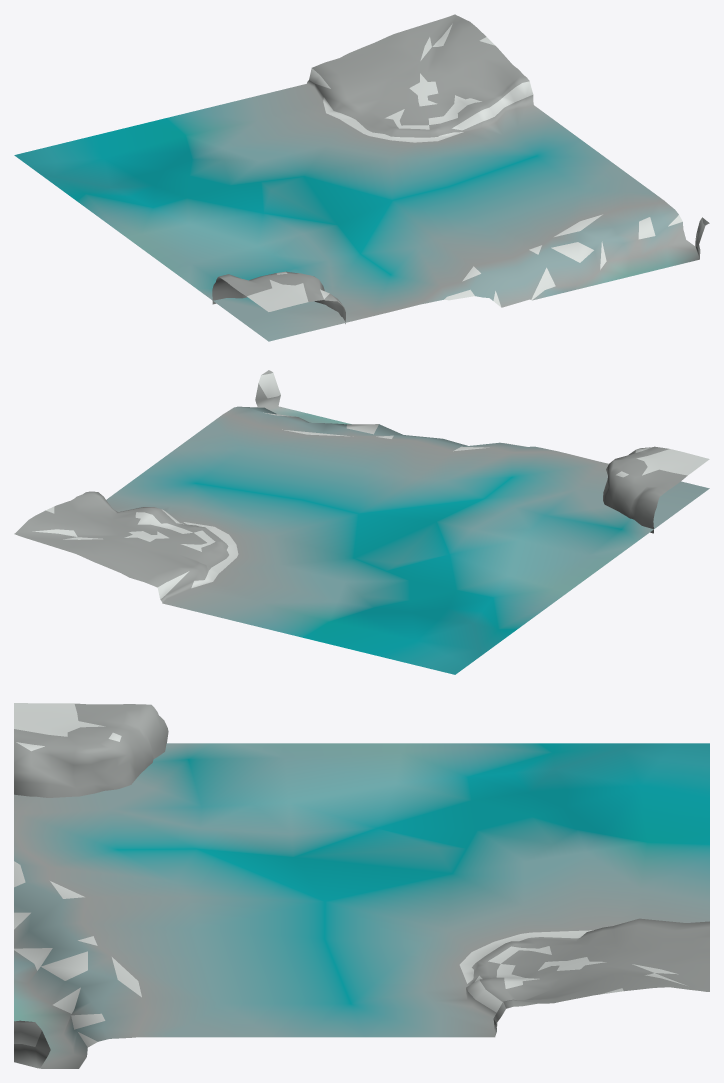
3 views of the same model, one above another, from view 1: azimuth 30°, elevation 25°; view 2: azimuth 150°, elevation 25°; view 3: azimuth 270°, elevation 25° (orthographic). The views are drawn at different scales.
Parts seen in each view (by area): view 1: G:\FFXIV-MapTools\exports\n5f1\bg\ex4\01_nvt_n5\fld\n5f1\bgp (×10); view 2: G:\FFXIV-MapTools\exports\n5f1\bg\ex4\01_nvt_n5\fld\n5f1\bgp (×10); view 3: G:\FFXIV-MapTools\exports\n5f1\bg\ex4\01_nvt_n5\fld\n5f1\bgp (×10).
Part boxes in pixels (box(x1,y1,x2,y2)): G:\FFXIV-MapTools\exports\n5f1\bg\ex4\01_nvt_n5\fld\n5f1\bgp (×10): box(14, 14, 709, 341); G:\FFXIV-MapTools\exports\n5f1\bg\ex4\01_nvt_n5\fld\n5f1\bgp (×10): box(14, 370, 709, 674); G:\FFXIV-MapTools\exports\n5f1\bg\ex4\01_nvt_n5\fld\n5f1\bgp (×10): box(14, 703, 709, 1068).
Bounding box in the file's own units: 128 × 16.58 × 128.
